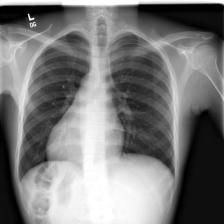normal: (17, 27, 178, 191)
